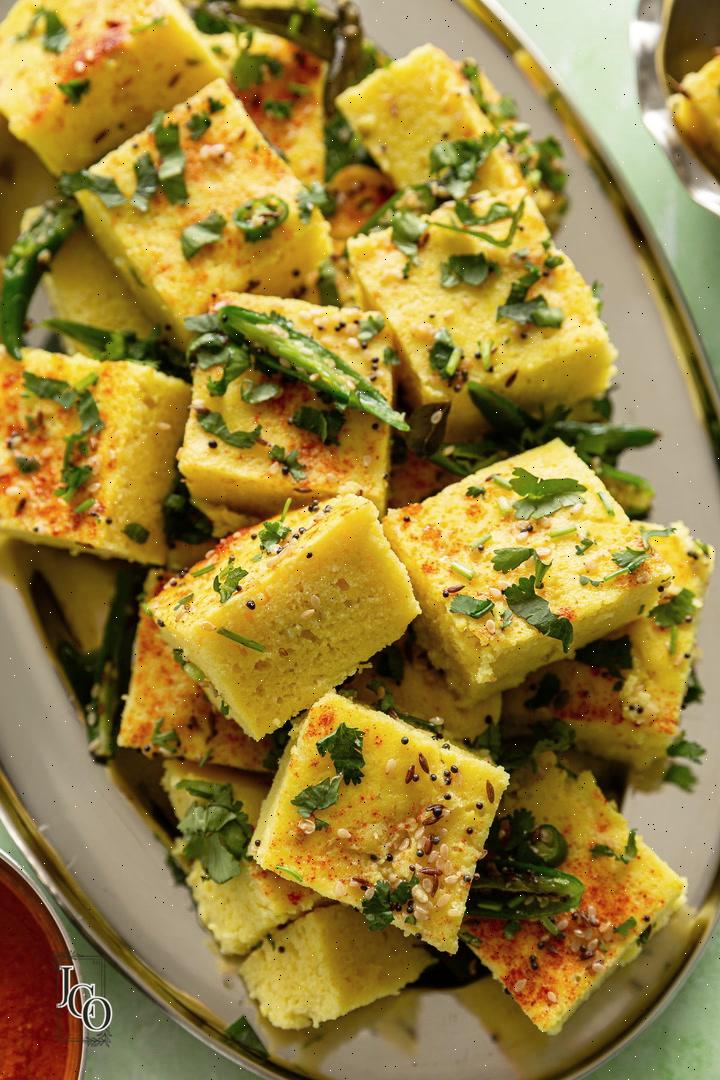yellow dhokla: (6, 0, 650, 967)
